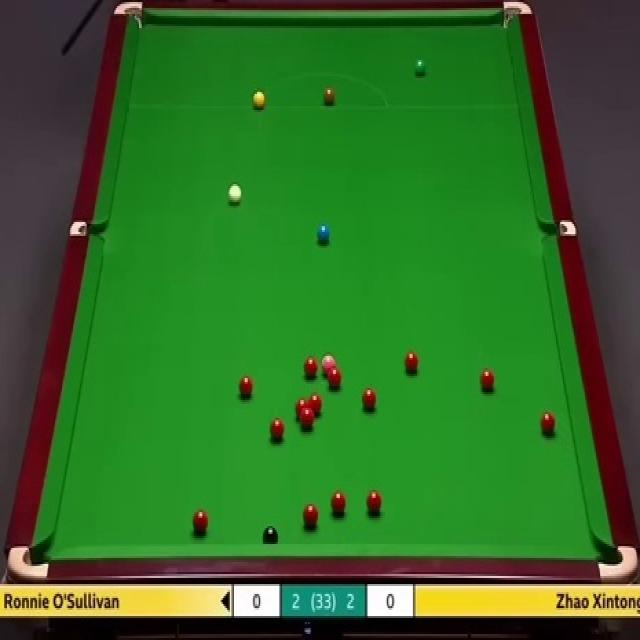black-ball: (264, 525, 282, 544)
blue-ball: (316, 225, 331, 242)
brown-ball: (323, 88, 336, 110)
green-ball: (415, 58, 425, 73)
pink-ball: (322, 354, 336, 374)
red-ball: (540, 408, 557, 436), (307, 393, 324, 419), (302, 504, 320, 528), (331, 488, 346, 516), (191, 509, 208, 533), (272, 417, 288, 441), (479, 368, 495, 391), (238, 377, 254, 398), (403, 352, 418, 373), (300, 408, 314, 430), (368, 491, 382, 513), (295, 399, 309, 418), (327, 367, 341, 386), (362, 390, 376, 408), (303, 357, 316, 376)
white-ball: (228, 182, 242, 203)
yellow-ball: (253, 90, 265, 110)
